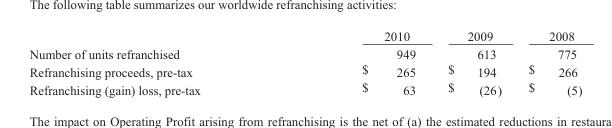table: (28, 29, 581, 96)
table column: (28, 29, 280, 96), (280, 29, 431, 96), (431, 29, 514, 96), (514, 29, 581, 96)
table column header: (28, 29, 581, 44)
table row: (28, 60, 581, 78), (28, 78, 581, 96), (28, 44, 581, 60), (28, 29, 581, 44)
